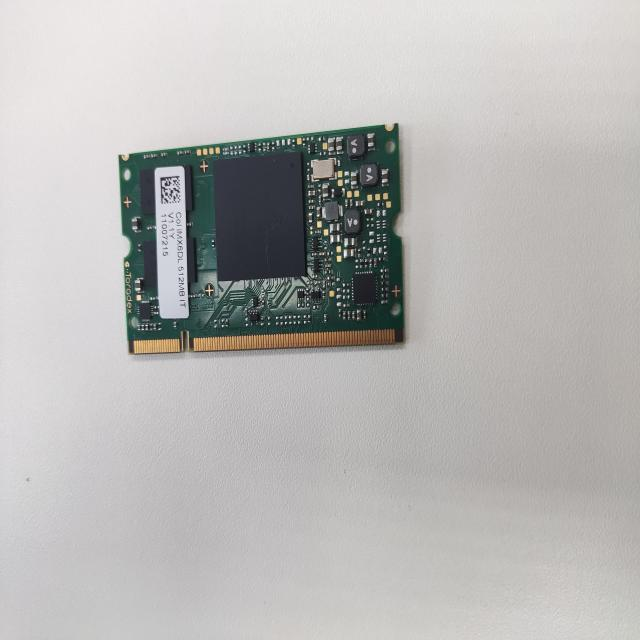som: (110, 119, 413, 358)
